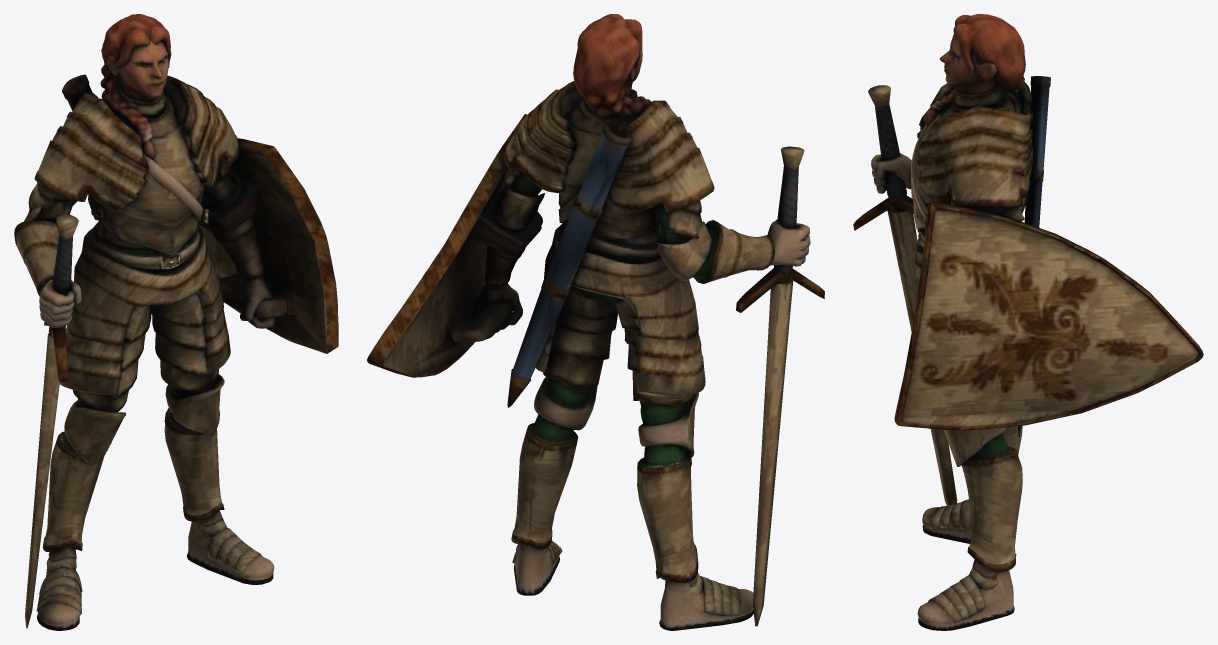
Rendered from MZ4250 - Human Female Paladin 4f.glb.
3 views of the same model, side by side, from view 1: azimuth 30°, elevation 25°; view 2: azimuth 150°, elevation 25°; view 3: azimuth 270°, elevation 25° (orthographic). The views are drawn at different scales.
Visible parts, largest first — view 1: Human Female Paladin 4.001; view 2: Human Female Paladin 4.001; view 3: Human Female Paladin 4.001.
Part boxes in pixels (bbox=[...]): Human Female Paladin 4.001: bbox=[14, 14, 338, 630]; Human Female Paladin 4.001: bbox=[367, 14, 824, 630]; Human Female Paladin 4.001: bbox=[853, 14, 1203, 630].
Bounding box in the file's own units: 19.77 × 35.34 × 19.9.
1 material, 1 textured.
